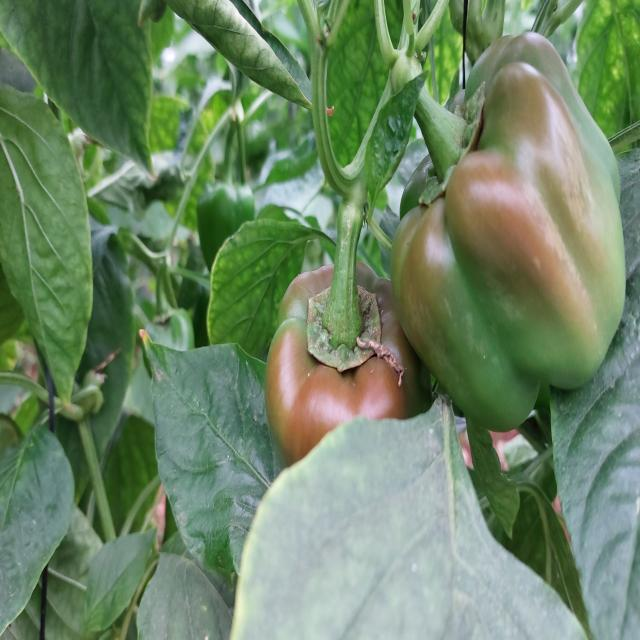BrownishRed--Can-be-Harvested: (402, 42, 626, 420), (268, 258, 426, 504)
